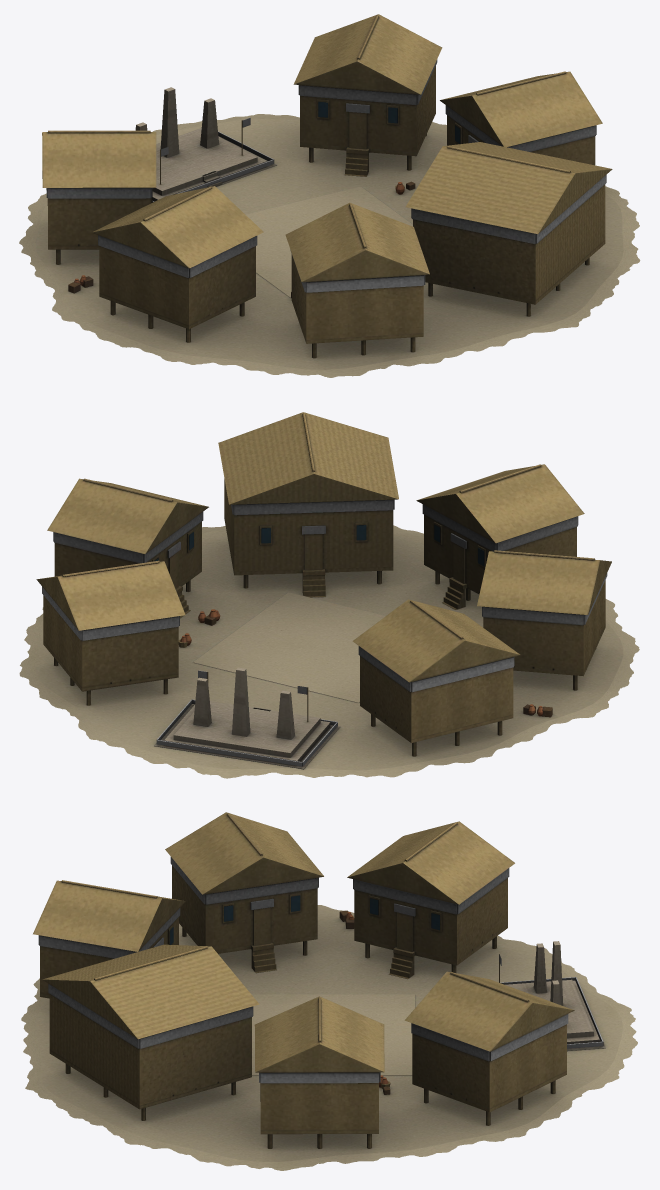
Rendered from bronze-town-small-b-monsoon.glb.
3 renders of one model, top to bottom at view 1: azimuth 30°, elevation 25°; view 2: azimuth 150°, elevation 25°; view 3: azimuth 270°, elevation 25°, orthographic.
Parts seen in each view (by area): view 1: LOD0; view 2: LOD0; view 3: LOD0.
Boxes of the visible parts, x1,y1,x2,y2 form: LOD0: [19, 14, 640, 377]; LOD0: [19, 412, 639, 778]; LOD0: [21, 812, 637, 1170].
Size of what is drawn, in the model's own units: 4.03 by 0.8671 by 3.95.
3 materials, 3 textured.
